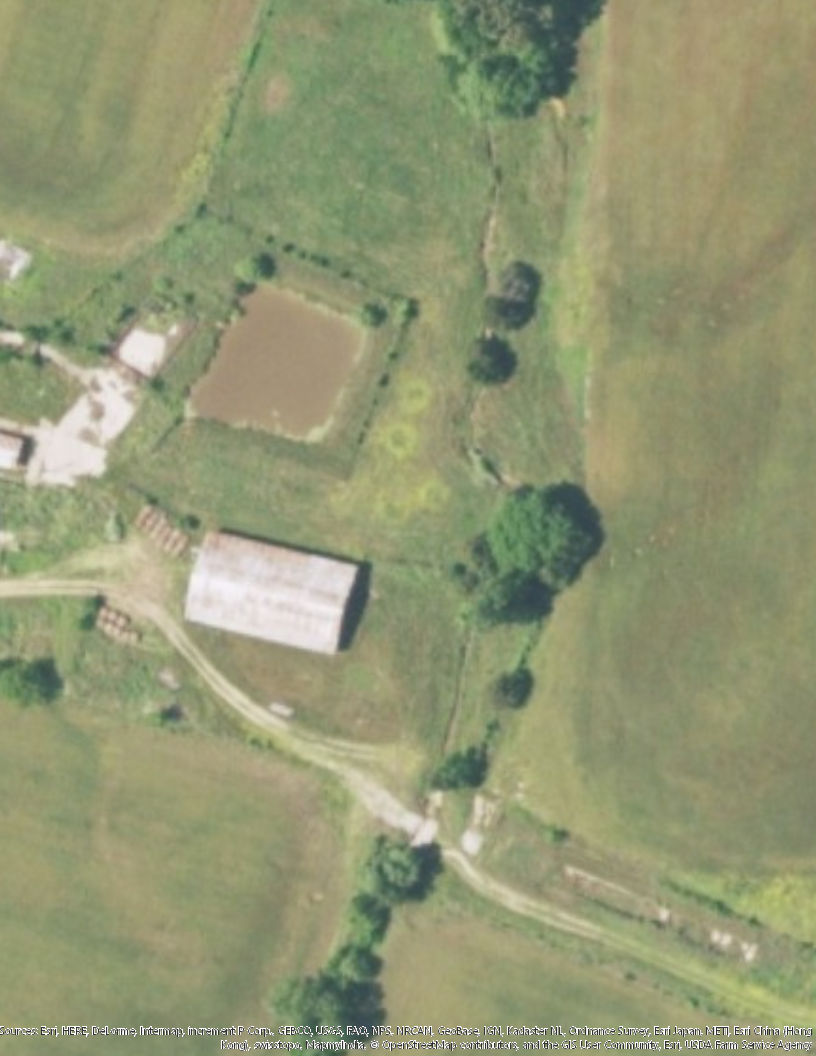cafo: (181, 526, 377, 662)
